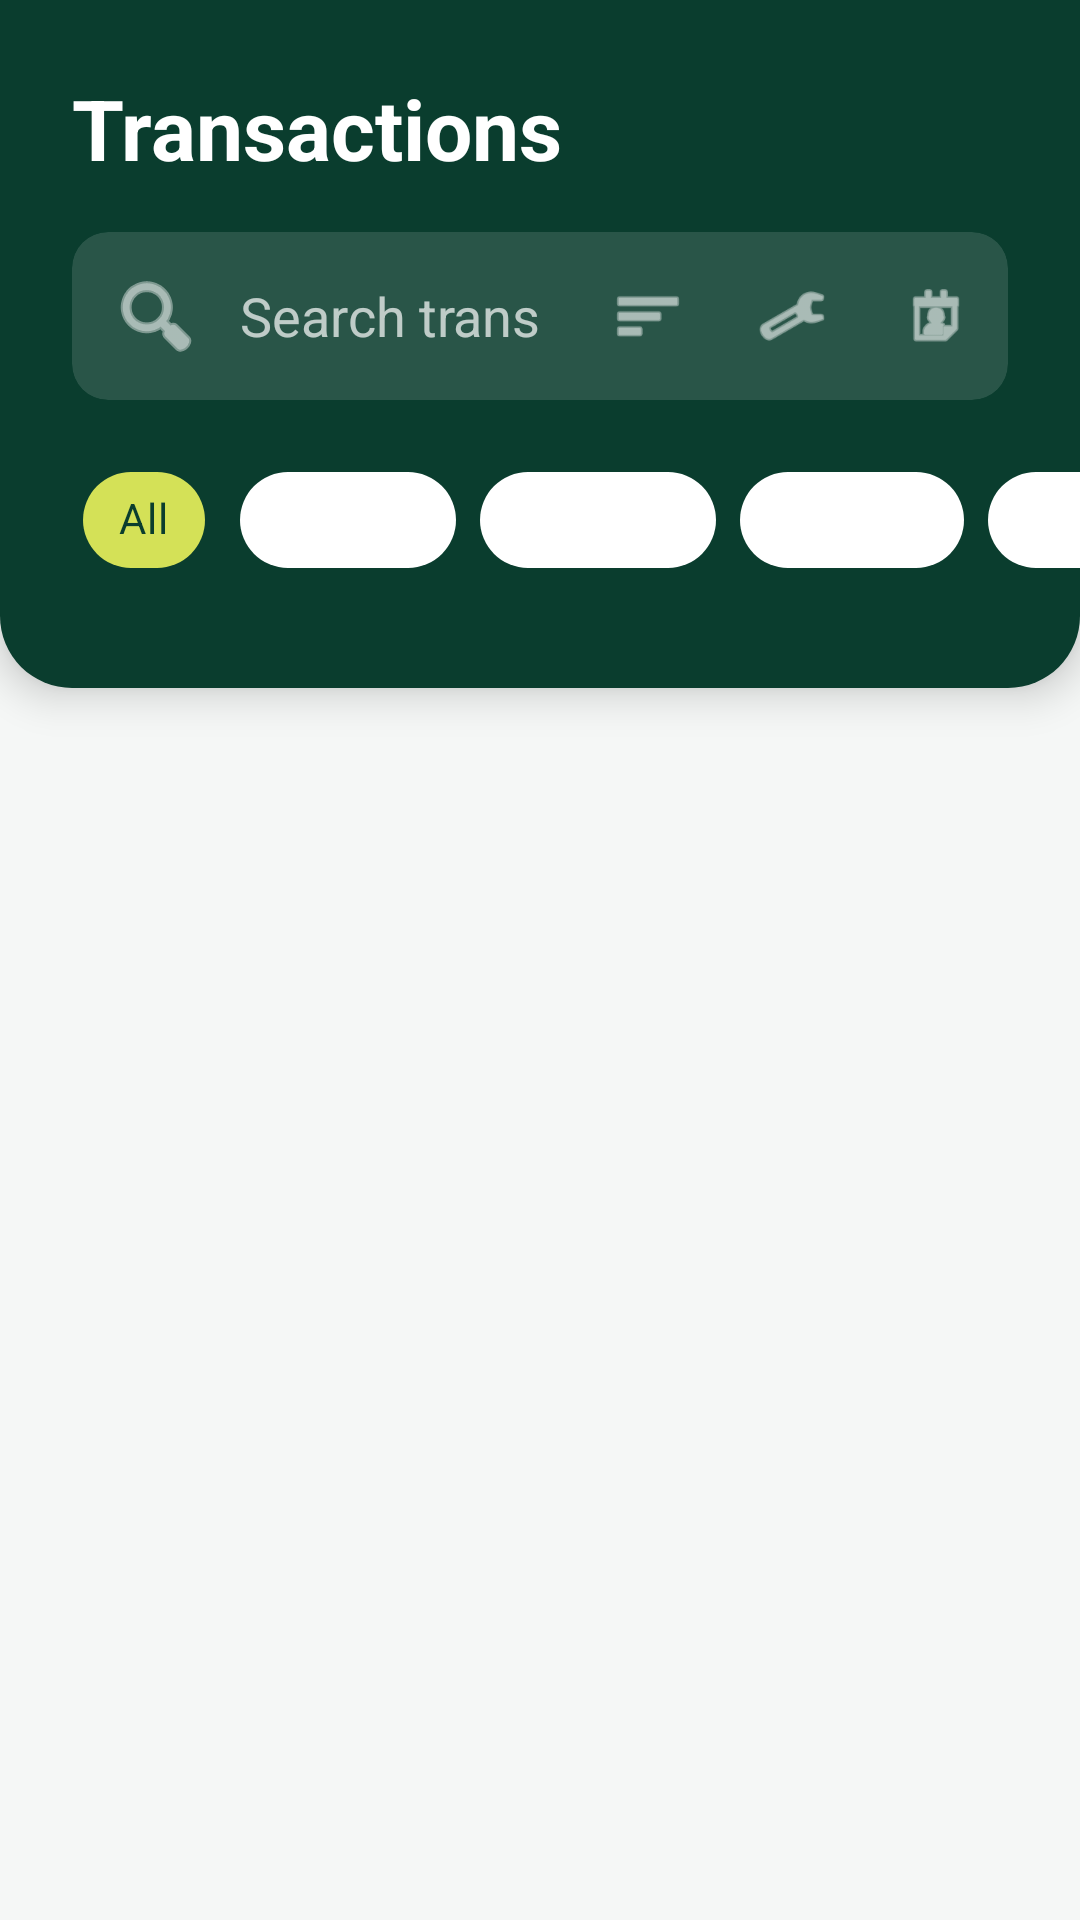

Point at icon controls on the screen. Image size 1080px×1920px, points as [x,y].
calendar: [936,315]
manage: [791,316]
sort by size: [648,316]
